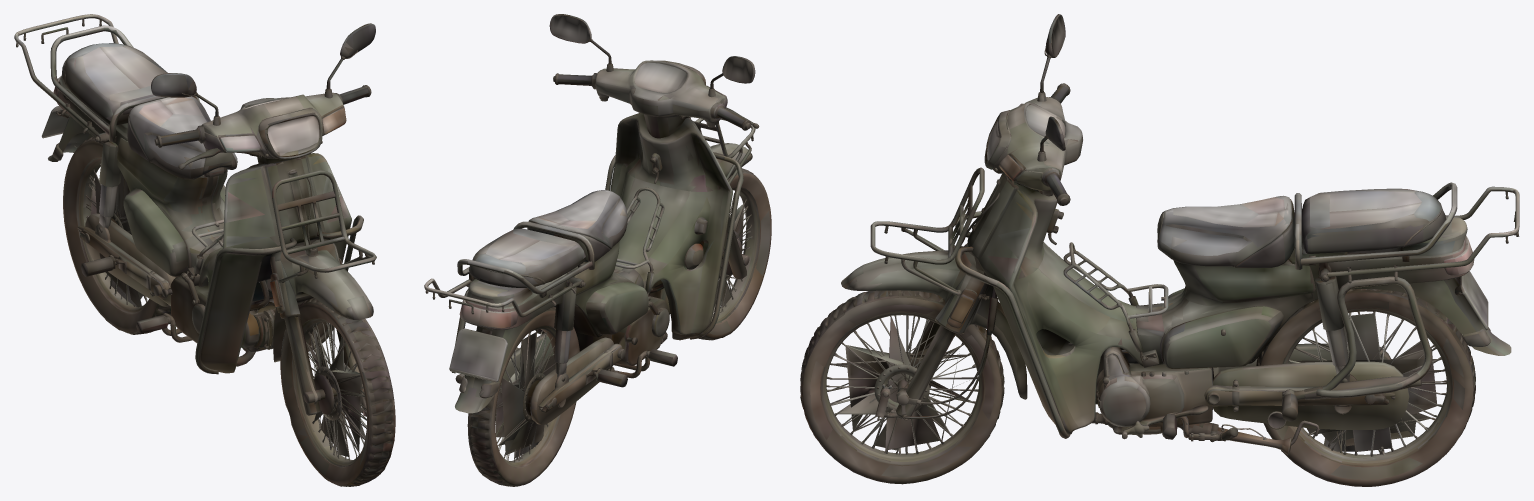
The model's file is ride_xeom.glb.
3 views of the same model, side by side, from view 1: azimuth 30°, elevation 25°; view 2: azimuth 150°, elevation 25°; view 3: azimuth 270°, elevation 25° (orthographic). The views are drawn at different scales.
Visible parts, largest first — view 1: tripo_node_39d0d390-9926-4c21-9a67-d094b96b75e2; view 2: tripo_node_39d0d390-9926-4c21-9a67-d094b96b75e2; view 3: tripo_node_39d0d390-9926-4c21-9a67-d094b96b75e2.
Part boxes in pixels (left/top/right/bottom): tripo_node_39d0d390-9926-4c21-9a67-d094b96b75e2: left=14, top=14, right=395, bottom=486; tripo_node_39d0d390-9926-4c21-9a67-d094b96b75e2: left=424, top=14, right=771, bottom=486; tripo_node_39d0d390-9926-4c21-9a67-d094b96b75e2: left=800, top=14, right=1519, bottom=486.
Size of the model in its own units: 0.3911 by 0.6343 by 0.9995.
Materials: 1 (1 with a texture image).
